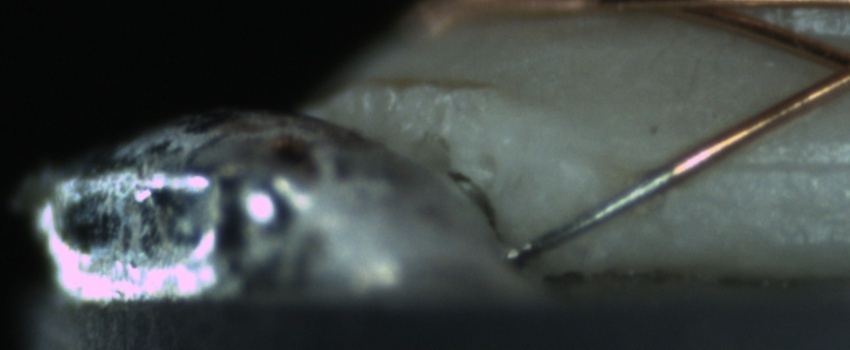CL: (805, 37, 850, 102)
DL: (701, 135, 849, 199)
TS: (508, 167, 675, 264)
